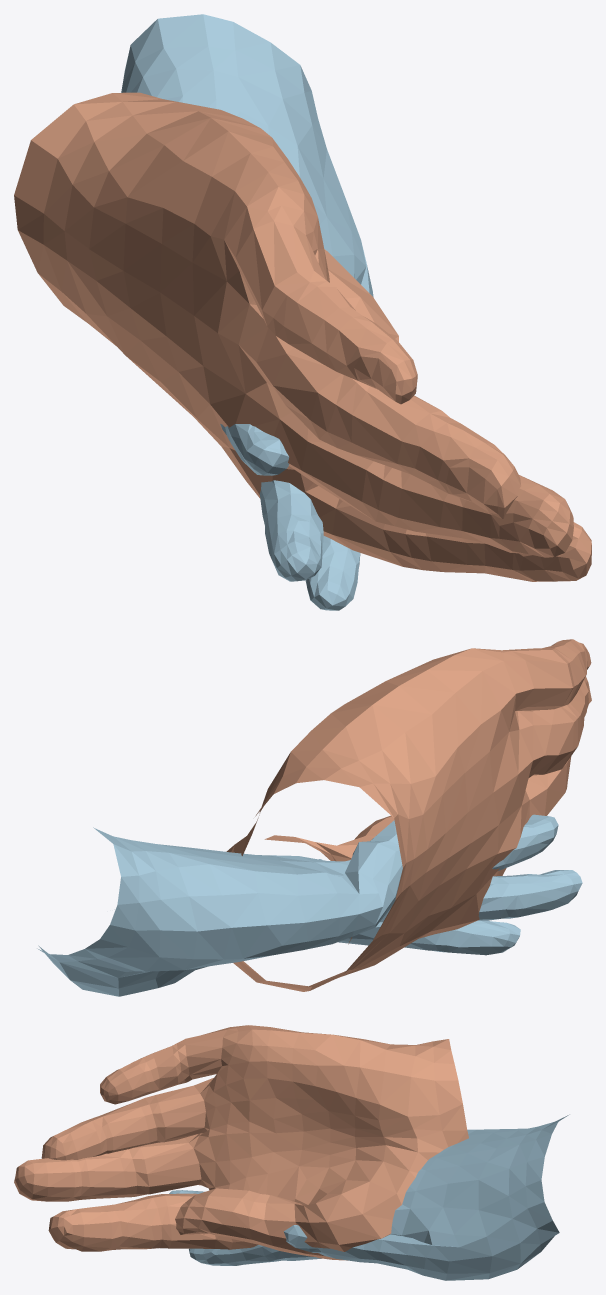
Rendered from frame_046.glb.
The picture shows the model from 3 angles, top to bottom: view 1: azimuth 30°, elevation 25°; view 2: azimuth 150°, elevation 25°; view 3: azimuth 270°, elevation 25°; orthographic projection. The views are drawn at different scales.
Parts seen in each view (by area): view 1: world; view 2: world; view 3: world.
Boxes of the visible parts, x1=… form: world: x1=14, y1=14, x2=591, y2=610; world: x1=37, y1=639, x2=591, y2=996; world: x1=14, y1=1025, x2=569, y2=1280.
Size of the model in its own units: 0.0941 by 0.094 by 0.2141.
